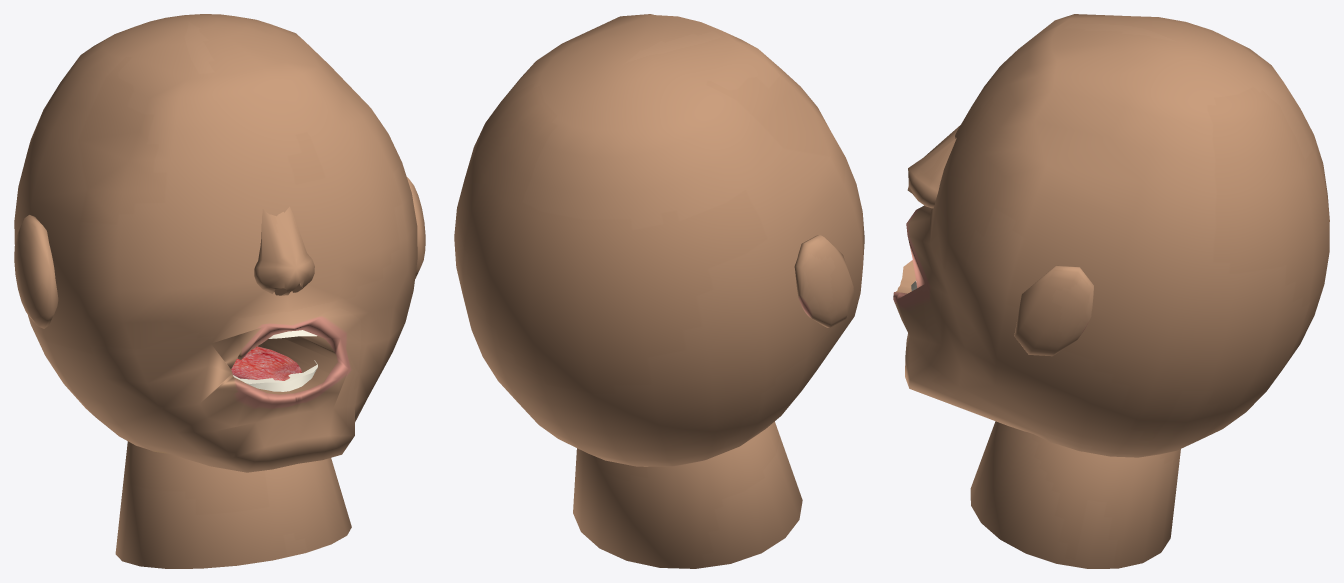
The model's file is Kopf mit Mund.fbx.
3 views of the same model, side by side, from view 1: azimuth 30°, elevation 25°; view 2: azimuth 150°, elevation 25°; view 3: azimuth 270°, elevation 25° (orthographic).
Visible parts, largest first — view 1: pSphere16; view 2: pSphere16; view 3: pSphere16.
Part boxes in pixels (left/top/right/bottom): pSphere16: left=14, top=14, right=425, bottom=568; pSphere16: left=454, top=14, right=864, bottom=568; pSphere16: left=893, top=14, right=1329, bottom=568.
Size of the model in its own units: 5.82 by 7.73 by 6.13.
Materials: 3 (3 with a texture image).
